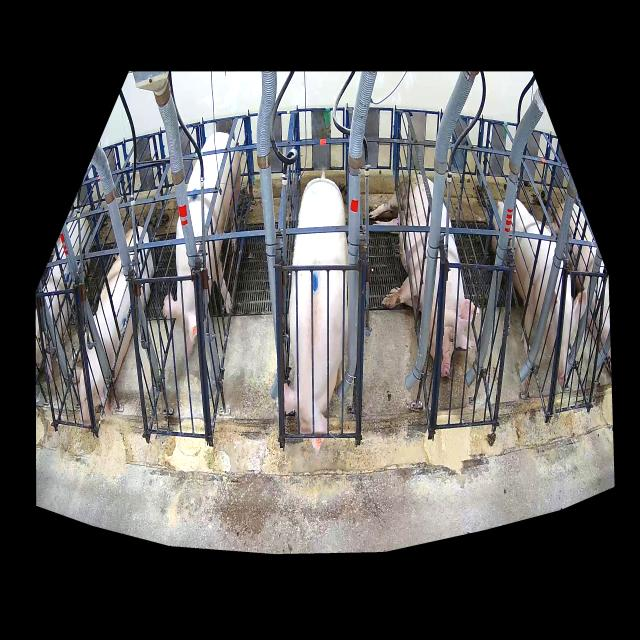pig: (370, 174, 475, 376), (490, 198, 587, 386), (162, 132, 241, 360), (284, 178, 348, 454), (72, 226, 154, 423)
